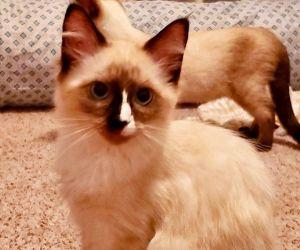siamese: (49, 3, 193, 152)
